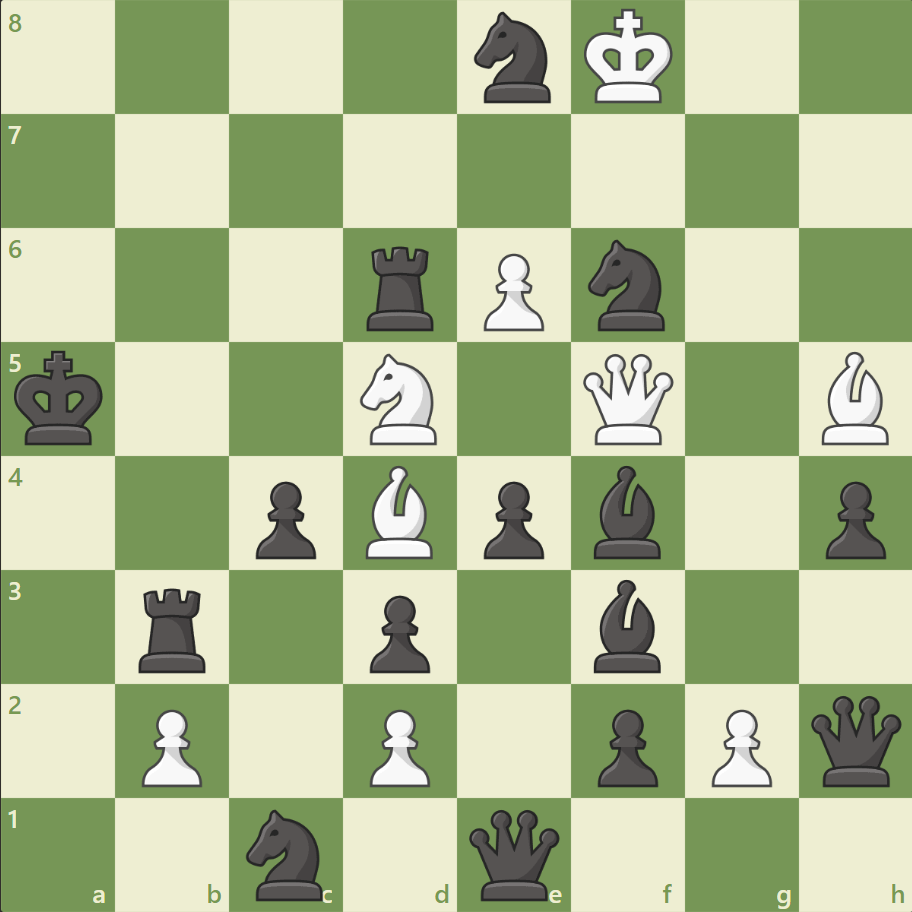B: (358, 460, 442, 563), (812, 347, 896, 449)
K: (579, 4, 679, 112)
N: (351, 348, 449, 450)
P: (474, 246, 549, 337), (133, 700, 208, 791), (701, 700, 776, 791), (361, 700, 435, 791)
Q: (578, 349, 677, 449)
b: (585, 460, 669, 563), (585, 574, 669, 676)
k: (11, 344, 111, 452)
n: (465, 7, 562, 110), (579, 234, 676, 337), (238, 802, 335, 904)
p: (247, 473, 322, 564), (474, 473, 549, 564), (815, 473, 889, 564), (361, 586, 435, 677), (588, 700, 662, 791)
q: (805, 690, 904, 789), (464, 804, 563, 903)
r: (360, 239, 442, 336), (133, 579, 215, 676)
